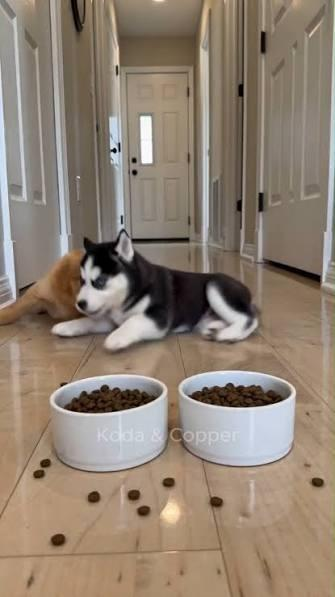adult_dog: (50, 229, 261, 352), (0, 246, 88, 326)
